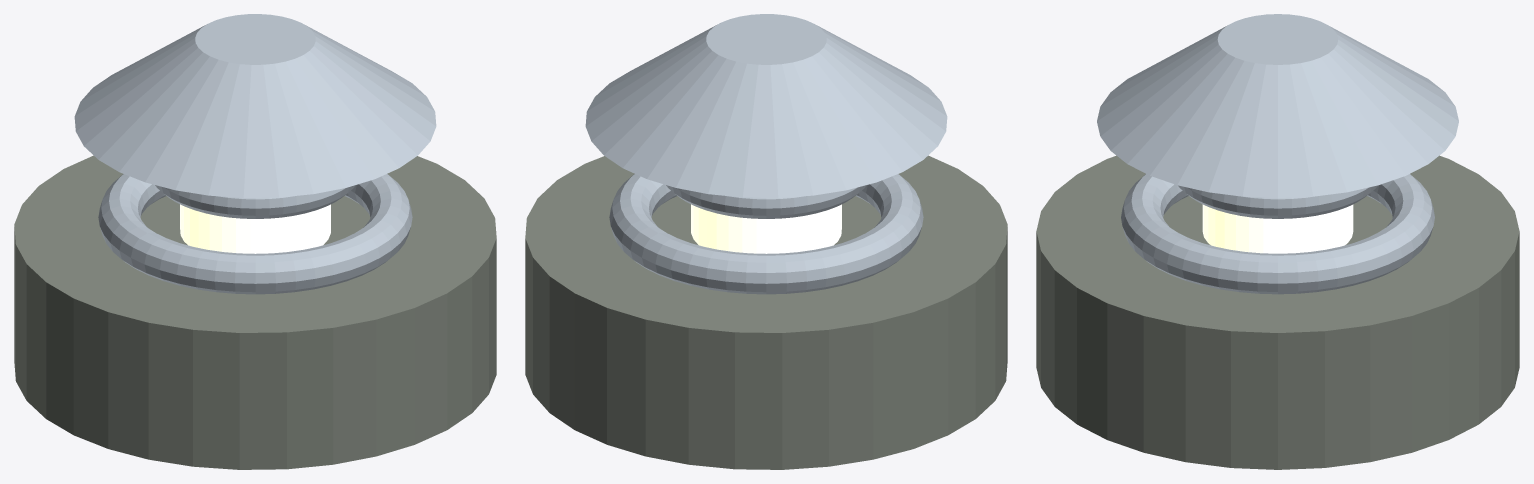
File: sonic_resonator.glb
The picture shows the model from 3 angles, left to right: view 1: azimuth 30°, elevation 25°; view 2: azimuth 150°, elevation 25°; view 3: azimuth 270°, elevation 25°; orthographic projection.
Parts seen in each view (by area): view 1: Cylinder, Cone, Torus, Cylinder.001, Torus.001; view 2: Cylinder, Cone, Torus, Cylinder.001, Torus.001; view 3: Cylinder, Cone, Torus, Cylinder.001, Torus.001.
Part boxes in pixels (<box>): Cylinder: <box>14,155,496,469</box>; Cone: <box>74,14,436,197</box>; Torus: <box>98,174,412,294</box>; Cylinder.001: <box>180,204,330,253</box>; Torus.001: <box>155,185,355,218</box>; Cylinder: <box>525,155,1007,469</box>; Cone: <box>585,14,947,197</box>; Torus: <box>609,174,923,294</box>; Cylinder.001: <box>691,204,841,253</box>; Torus.001: <box>666,185,866,218</box>; Cylinder: <box>1036,155,1519,469</box>; Cone: <box>1097,14,1458,197</box>; Torus: <box>1121,174,1434,294</box>; Cylinder.001: <box>1202,204,1353,253</box>; Torus.001: <box>1178,185,1377,218</box>.
Size of the model in its own units: 1.6 by 1.2 by 1.6.
